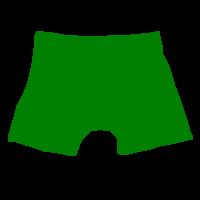mutande: (7, 30, 193, 156)
